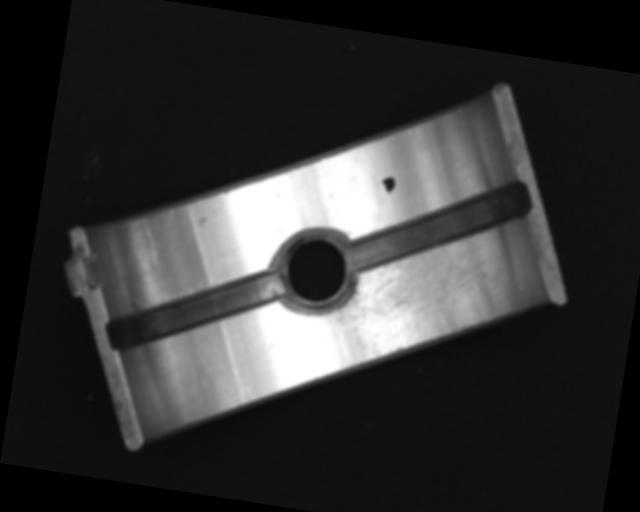blot: (378, 174, 397, 196)
bruise: (196, 216, 209, 229)
gap: (347, 159, 531, 296), (106, 253, 285, 374)
hole: (272, 226, 360, 319)
scratch: (308, 217, 506, 387)
